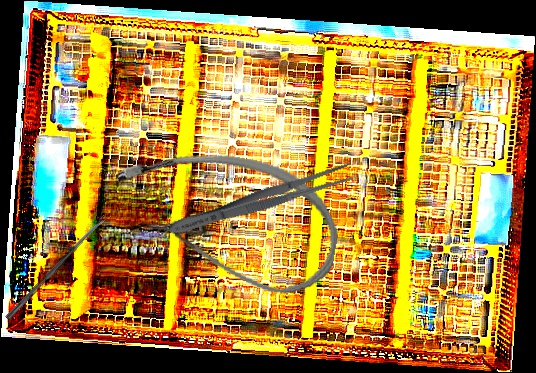Cannula: (102, 137, 349, 302)
Dressing Forceps: (166, 160, 355, 241)
Surgical Spoon: (5, 215, 108, 321)
